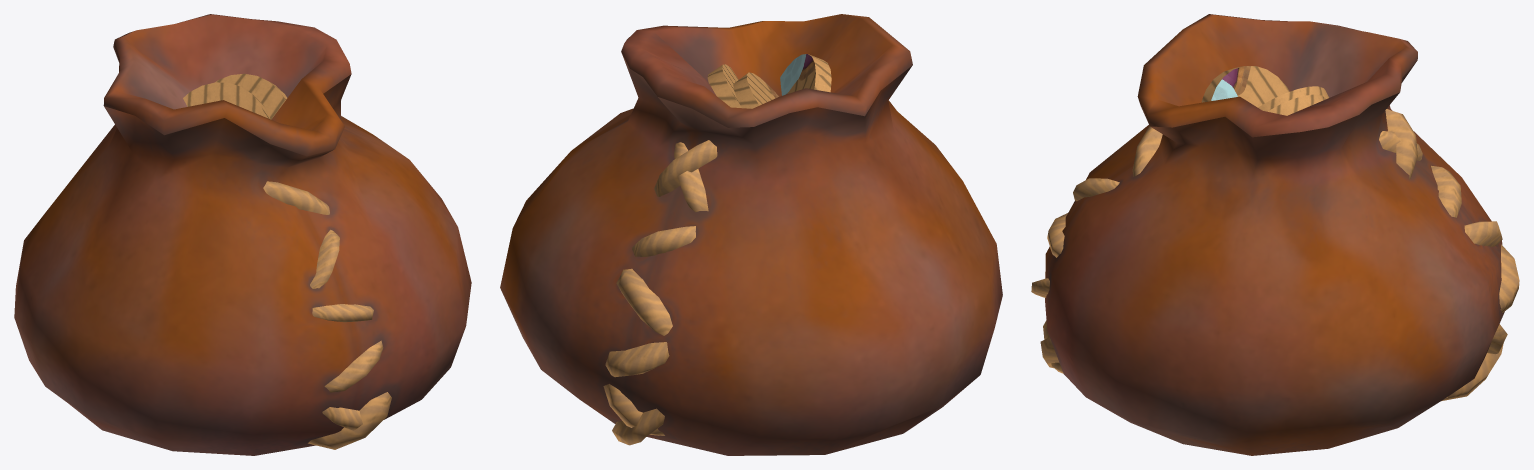
File: SM_Potion_Props_Bag_02_B.fbx
The picture shows the model from 3 angles, left to right: view 1: azimuth 30°, elevation 25°; view 2: azimuth 150°, elevation 25°; view 3: azimuth 270°, elevation 25°; orthographic projection. The views are drawn at different scales.
Visible parts, largest first — view 1: SM_Potion_Props_Bag_02_B_LOD0; view 2: SM_Potion_Props_Bag_02_B_LOD0; view 3: SM_Potion_Props_Bag_02_B_LOD0.
Part boxes in pixels (x1=…): SM_Potion_Props_Bag_02_B_LOD0: x1=14, y1=14, x2=471, y2=455; SM_Potion_Props_Bag_02_B_LOD0: x1=500, y1=14, x2=1002, y2=455; SM_Potion_Props_Bag_02_B_LOD0: x1=1031, y1=14, x2=1519, y2=455.
Size of what is drawn, in the model's own units: 23.83 by 18.77 by 24.95.
